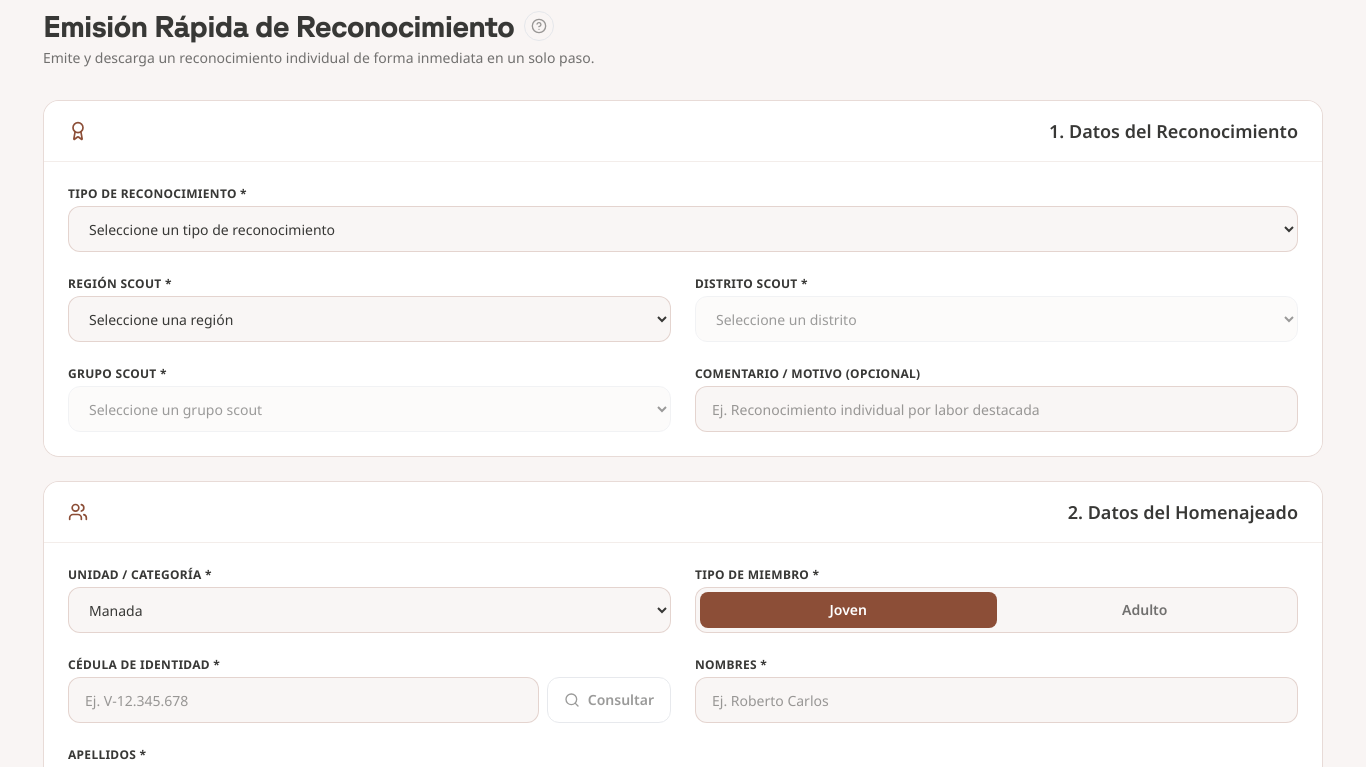
Test: QuickRecognition Component › allows querying Sistema de Registro for scout units and auto-populates names
Set cédula
Type "V-25123456" into the field labelled "Cédula de Identidad".
click(303, 700); type("V-25123456")  # box [68,677,539,723]
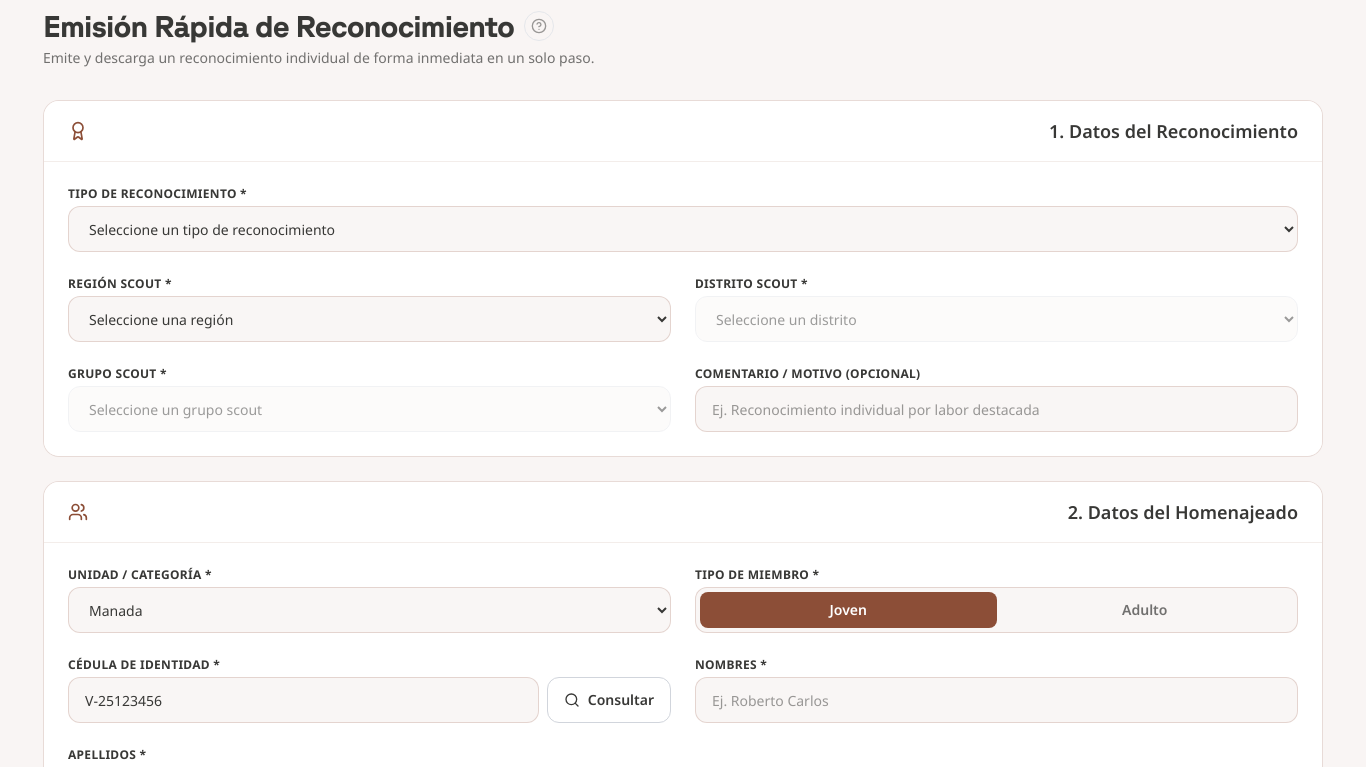
Click Consultar Sistema de Registro
Click the button "Consultar".
click(609, 700)  # box [547,677,671,723]
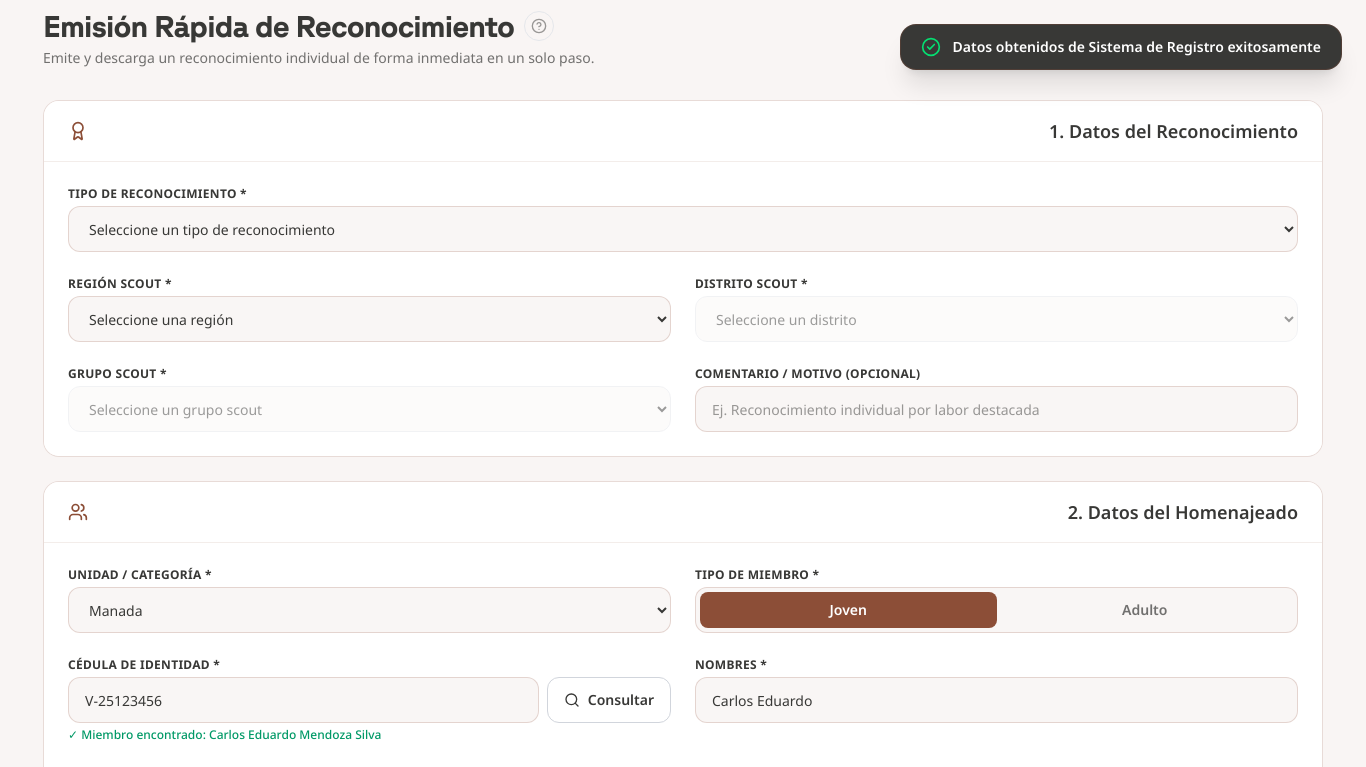
Expected: the field labelled "Nombres" holds "Carlos Eduardo", [695,677,1298,723]
Expected: the text "✓ Miembro encontrado: Carlos Eduardo Mendoza Silva" is shown, [68,726,381,743]
